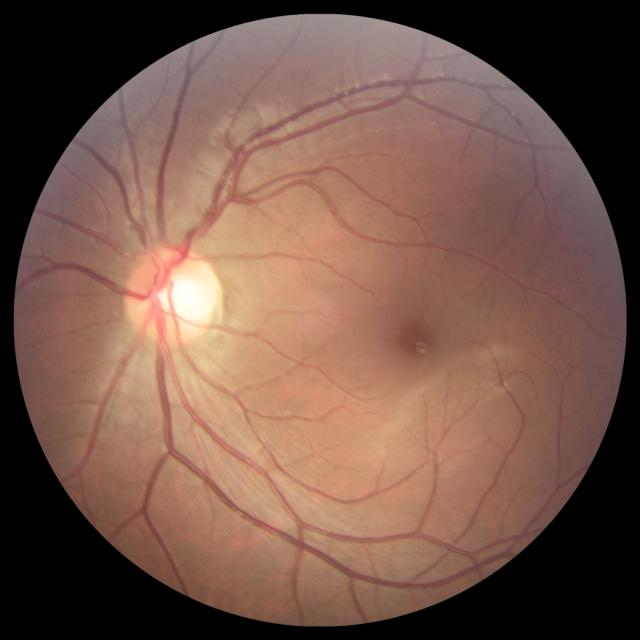OC: (152, 266, 207, 324)
OD: (125, 248, 220, 345)
